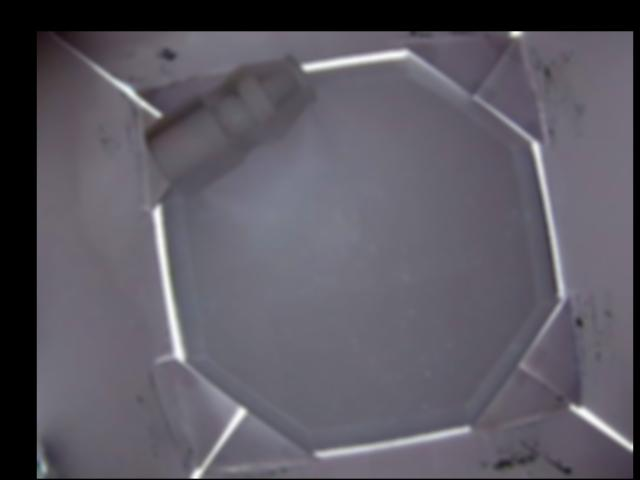Bottle: (143, 53, 319, 200)
